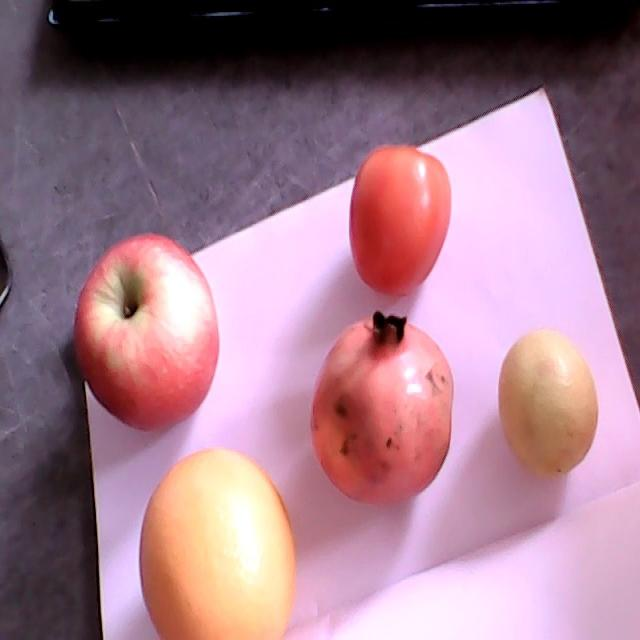apple: (75, 232, 219, 430)
lemon: (497, 330, 598, 478)
orange: (140, 449, 296, 639)
pomegranate: (309, 309, 453, 504)
tomato: (349, 142, 452, 299)
